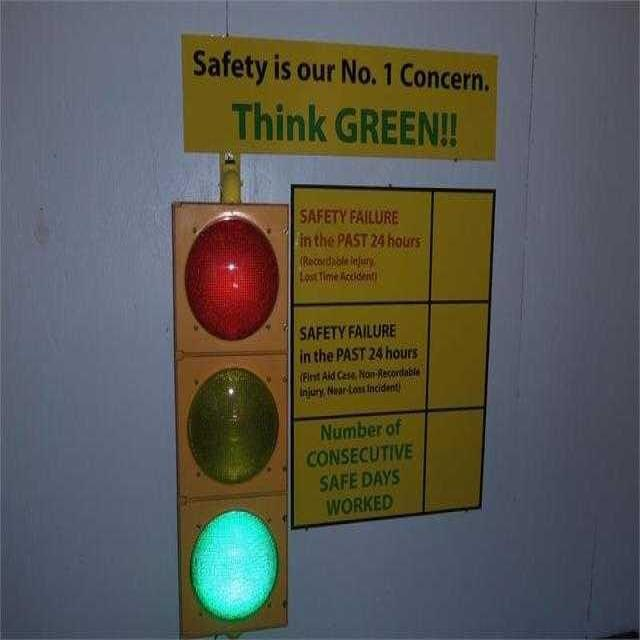Traffic Light -Green-: (157, 185, 301, 640)
